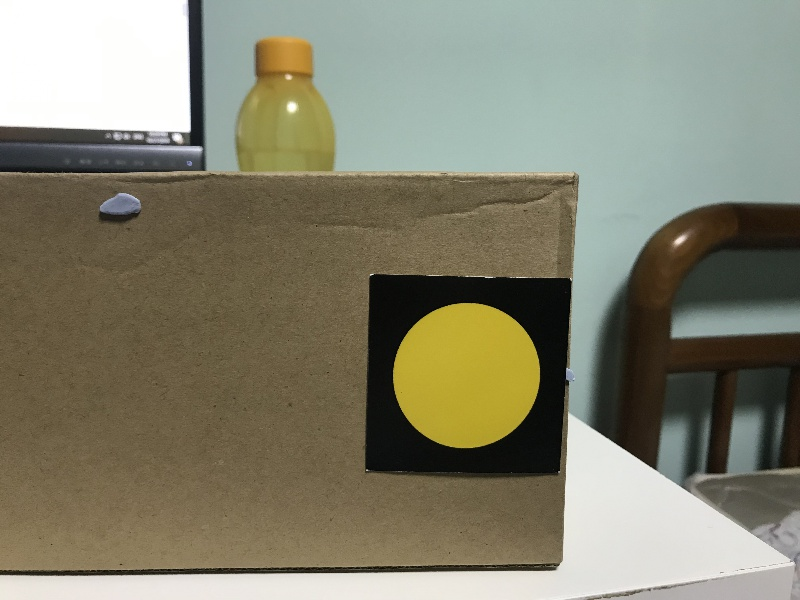Stop-5: (373, 279, 558, 471)
